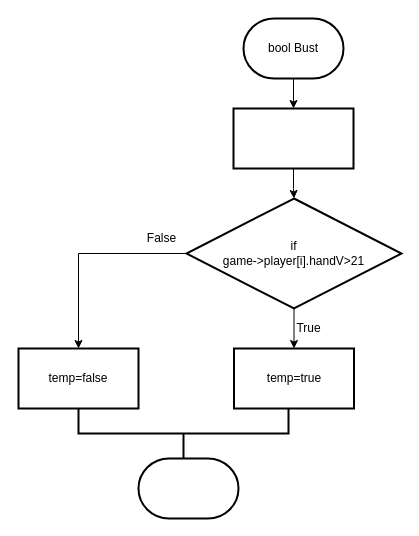
Some shapes in this 419 by 536 pixel diagram are drawn without their labels. Each missing label, with the centre of its shape:
Declare bool temp;: (293,138)
Return temp: (188,488)
